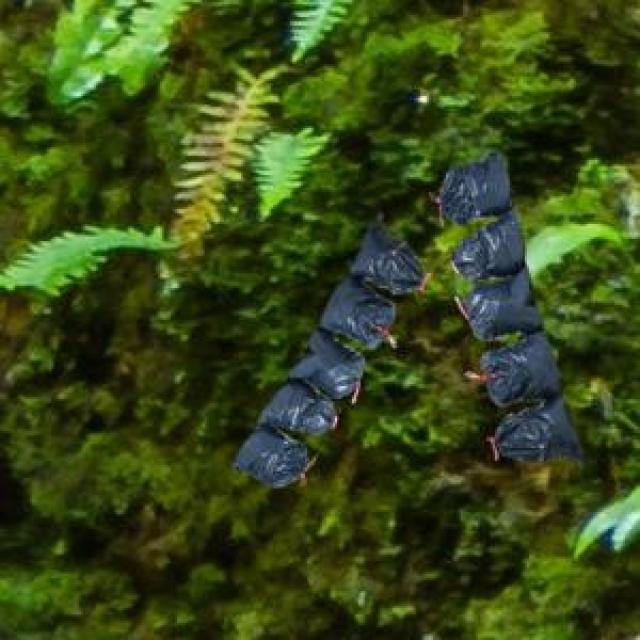waste: (238, 221, 422, 487), (441, 154, 580, 461)
